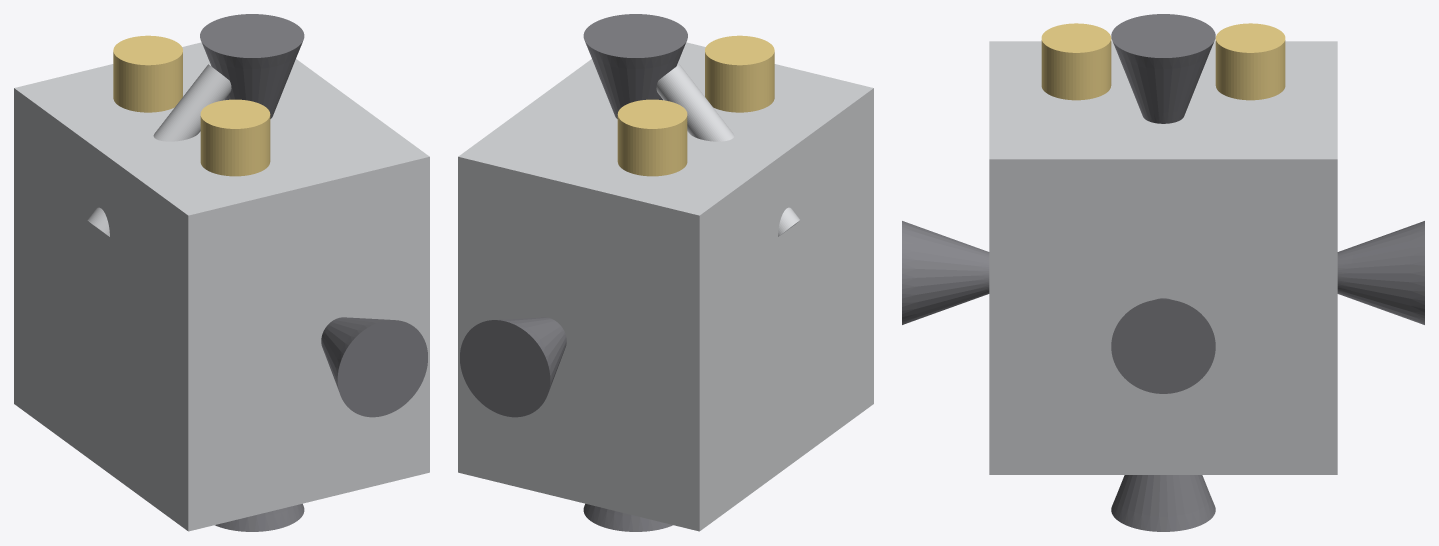
The model's file is prop25_cold_gas_block.glb.
3 renders of one model, left to right at view 1: azimuth 30°, elevation 25°; view 2: azimuth 150°, elevation 25°; view 3: azimuth 270°, elevation 25°, orthographic.
Visible parts, largest first — view 1: block, nozzles, valves, feed; view 2: block, nozzles, valves, feed; view 3: block, nozzles, valves.
Boxes of the visible parts, left/top/right/bottom form: block: left=14, top=42, right=429, bottom=531; nozzles: left=200, top=14, right=427, bottom=531; valves: left=113, top=35, right=270, bottom=176; feed: left=87, top=64, right=231, bottom=236; block: left=458, top=42, right=873, bottom=531; nozzles: left=460, top=14, right=687, bottom=531; valves: left=617, top=35, right=774, bottom=176; feed: left=656, top=64, right=800, bottom=236; block: left=989, top=41, right=1337, bottom=474; nozzles: left=902, top=14, right=1424, bottom=531; valves: left=1041, top=23, right=1285, bottom=100.
Size of the model in its own units: 0.2071 by 0.3 by 0.3.
